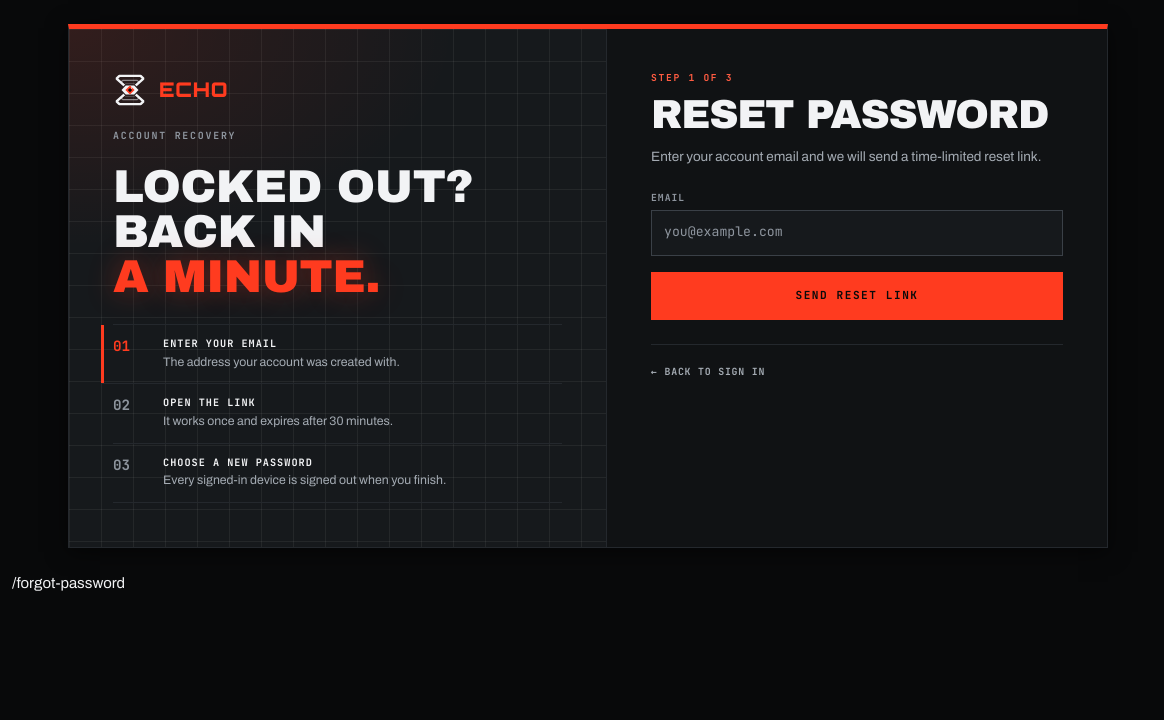
PasswordResetPage — request a link › shows the same confirmation whether or not the account exists (no enumeration from the UI)
Type "ghost@example.com" into the field labelled "EMAIL" at (857, 233), box [652,211,1062,255]
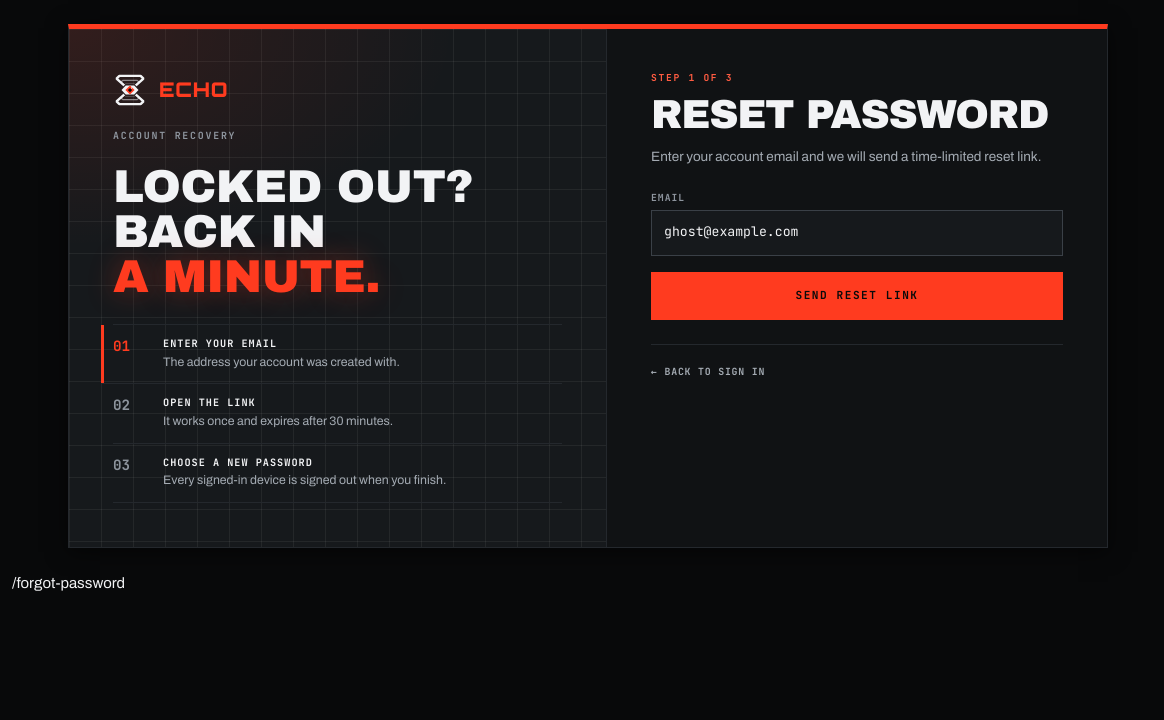
Click the button "SEND RESET LINK" at (857, 296), box [651,272,1063,320]
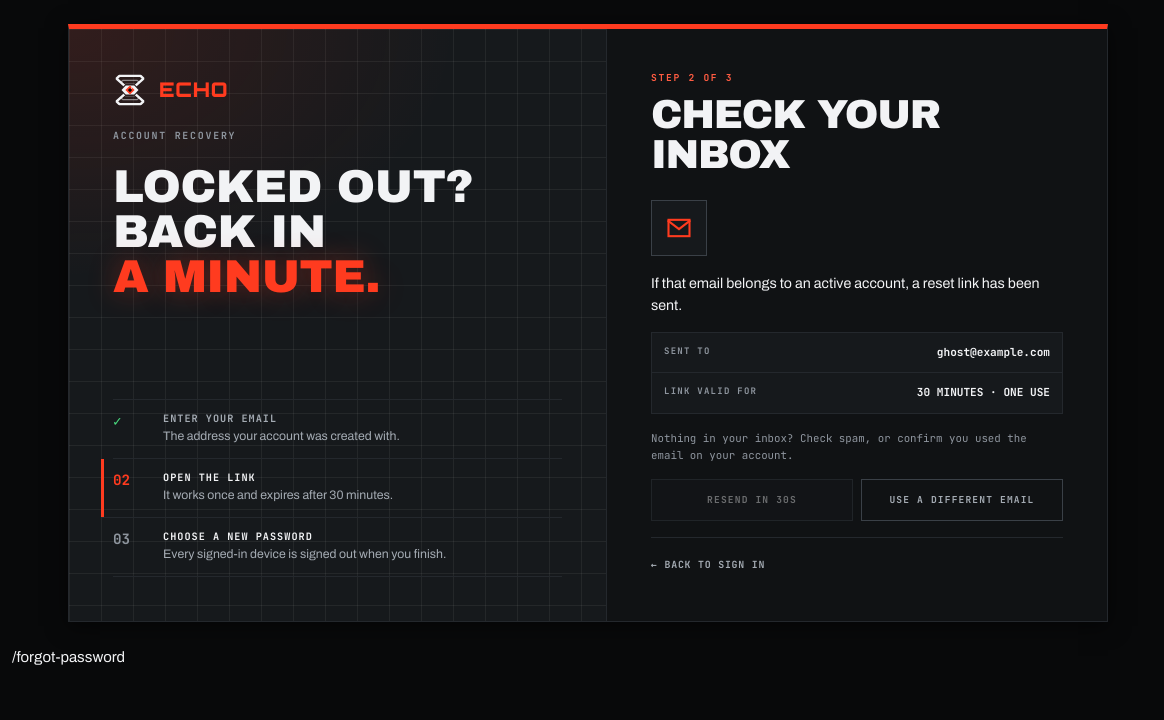
Check: the heading "CHECK YOUR INBOX" is shown, box [651,92,940,177]
